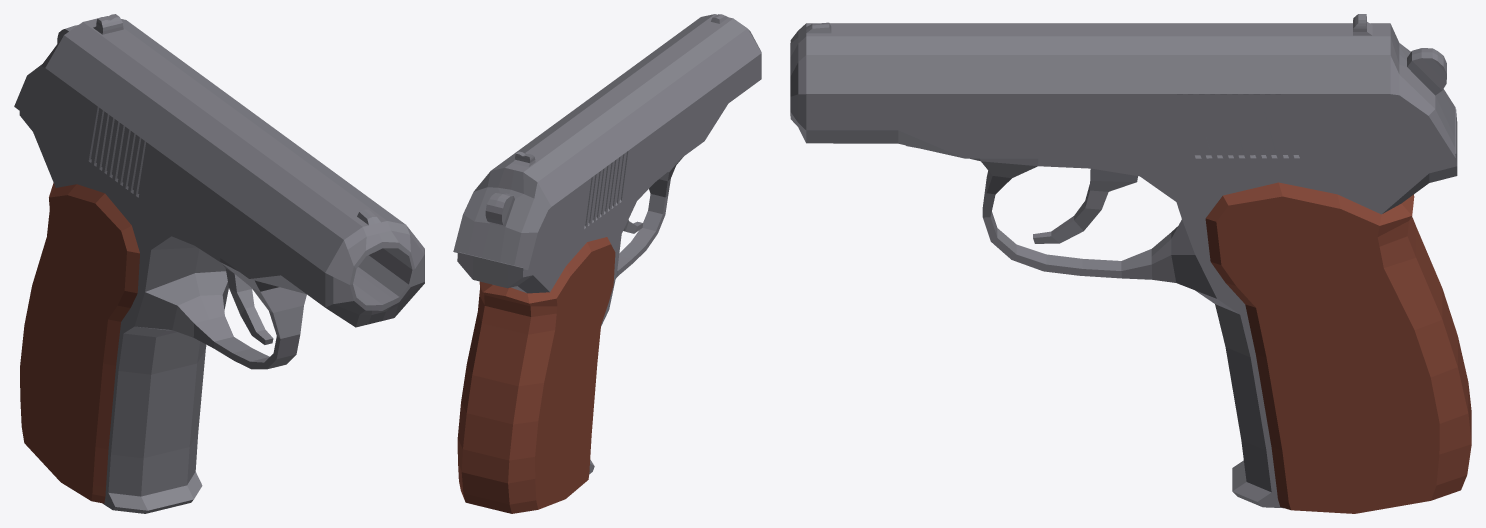
Rendered from Makarov.fbx.
3 views of the same model, side by side, from view 1: azimuth 30°, elevation 25°; view 2: azimuth 150°, elevation 25°; view 3: azimuth 270°, elevation 25° (orthographic). The views are drawn at different scales.
Parts seen in each view (by area): view 1: Plane, Plane.001, Cube; view 2: Plane, Plane.001; view 3: Plane, Plane.001, Cube.
Part boxes in pixels (box(x1,y1,x2,y2)): Plane: box(19, 111, 306, 513); Plane.001: box(14, 14, 424, 327); Cube: box(222, 264, 273, 344); Plane: box(457, 156, 683, 513); Plane.001: box(453, 14, 761, 269); Plane: box(906, 109, 1471, 513); Plane.001: box(790, 14, 1455, 158); Cube: box(1033, 168, 1137, 243).
Size of the model in its own units: 159 by 664 by 872.
